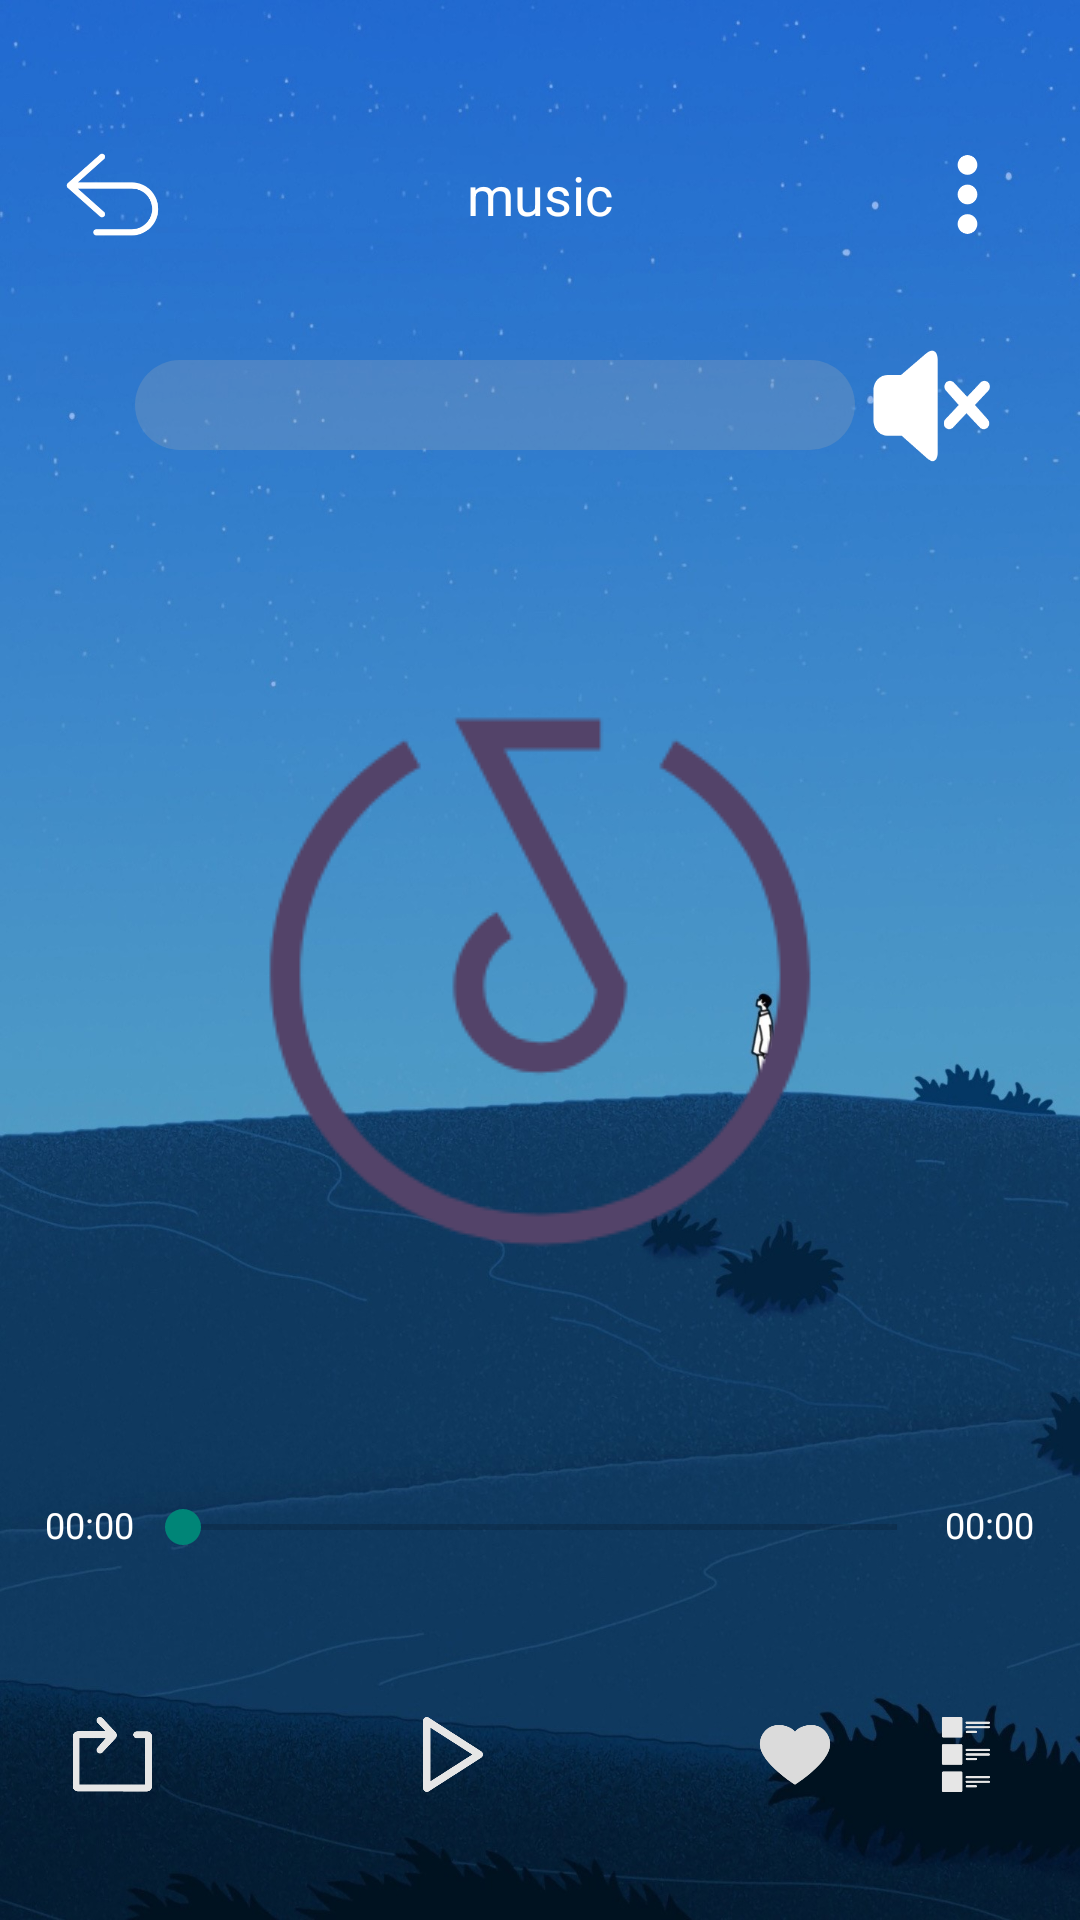

Named icons in this screenshot (1080w x 1920h) and their centers, (x=x, y=y):
back view style: (x=112, y=194)
list like: (x=795, y=1755)
loop: (x=119, y=1754)
more view style: (x=978, y=195)
play: (x=453, y=1754)
play list style: (x=968, y=1754)
